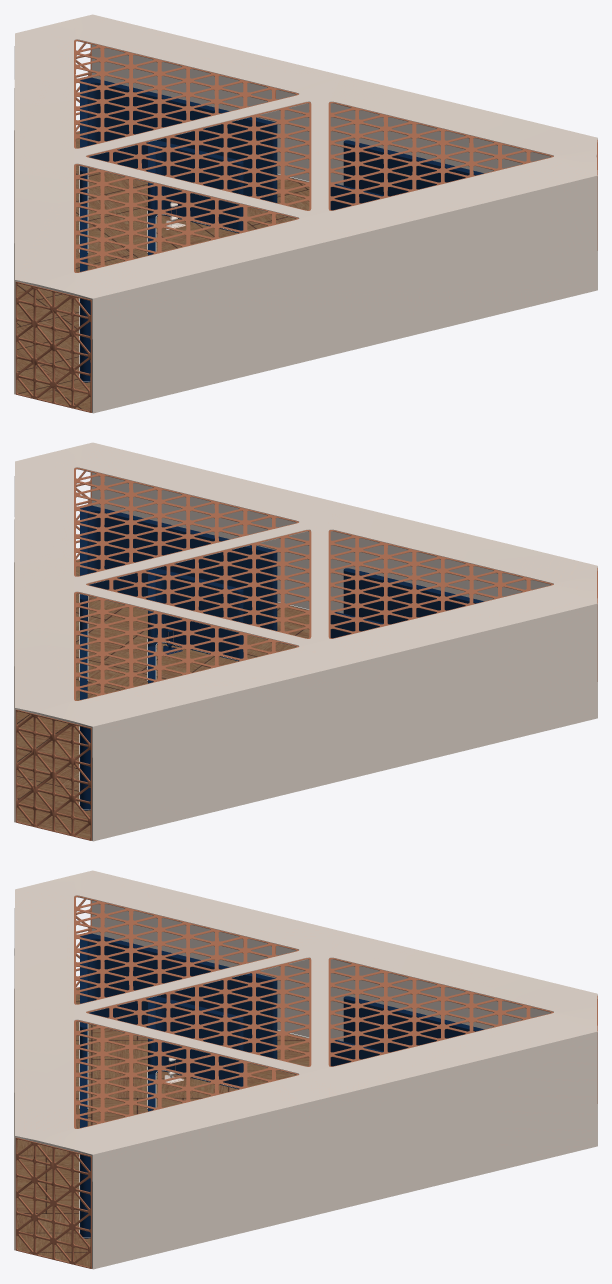
File: VRGalleryOriginal1509compressed1.glb
3 renders of one model, top to bottom at view 1: azimuth 30°, elevation 25°; view 2: azimuth 150°, elevation 25°; view 3: azimuth 270°, elevation 25°, orthographic.
Visible parts, largest first — view 1: Outer_wall, Windows, Floor; view 2: Outer_wall, Windows, Floor; view 3: Outer_wall, Windows, Floor.
Boxes of the visible parts, x1,y1,x2,y2 form: Outer_wall: [14, 14, 597, 413]; Windows: [15, 39, 597, 412]; Floor: [17, 132, 309, 410]; Outer_wall: [14, 442, 597, 841]; Windows: [15, 467, 597, 840]; Floor: [17, 560, 309, 838]; Outer_wall: [14, 870, 597, 1269]; Windows: [15, 895, 597, 1268]; Floor: [17, 988, 309, 1266].
Bounding box in the file's own units: 22.36 × 4.2 × 19.37.
Materials: 5 (5 with a texture image).
